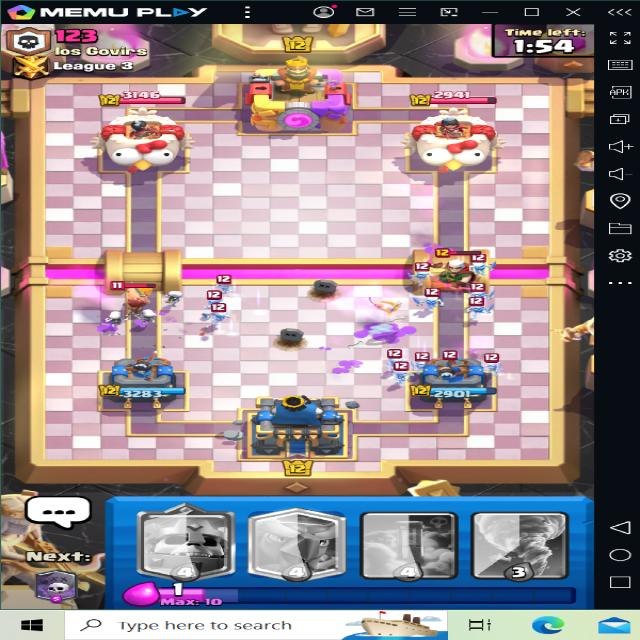barbarian: (110, 282, 157, 309)
magic-archer: (434, 252, 482, 294)
